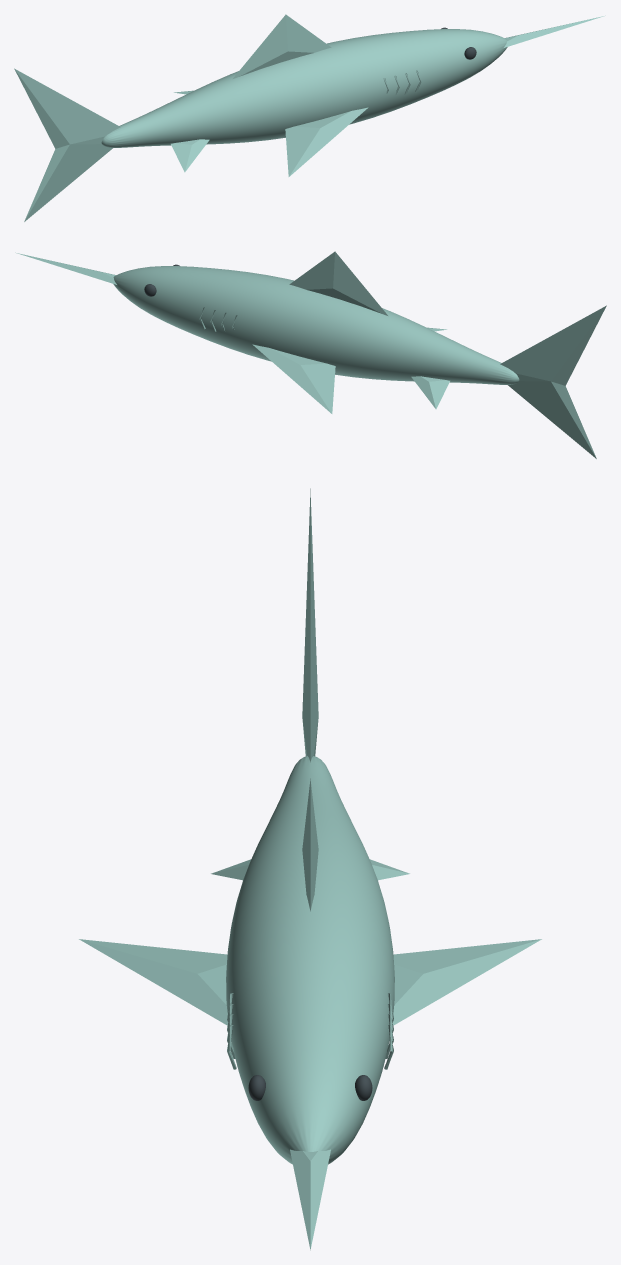
The picture shows the model from 3 angles, top to bottom: view 1: azimuth 30°, elevation 25°; view 2: azimuth 150°, elevation 25°; view 3: azimuth 270°, elevation 25°; orthographic projection. The views are drawn at different scales.
Parts seen in each view (by area): view 1: Body, Tail, Dorsal, Pectoral, Pelvic, Rostrum; view 2: Body, Tail, Dorsal, Pectoral.001, Pelvic.001, Rostrum; view 3: Body, Pectoral.001, Pectoral, Tail, Rostrum, Dorsal.
Part boxes in pixels (<box>): Body: <box>101,29,507,147</box>; Tail: <box>14,68,120,221</box>; Dorsal: <box>233,14,331,78</box>; Pectoral: <box>285,107,368,176</box>; Pelvic: <box>171,139,209,172</box>; Rostrum: <box>504,15,605,47</box>; Body: <box>113,266,519,384</box>; Tail: <box>500,305,606,458</box>; Dorsal: <box>289,251,387,315</box>; Pectoral.001: <box>252,344,335,413</box>; Pelvic.001: <box>411,376,449,409</box>; Rostrum: <box>15,252,116,284</box>; Body: <box>226,756,394,1164</box>; Pectoral.001: <box>392,939,541,1025</box>; Pectoral: <box>79,939,227,1025</box>; Tail: <box>302,488,318,762</box>; Rostrum: <box>290,1149,330,1250</box>; Dorsal: <box>302,778,318,911</box>.
Size of the model in its own units: 301 by 76 by 102.
